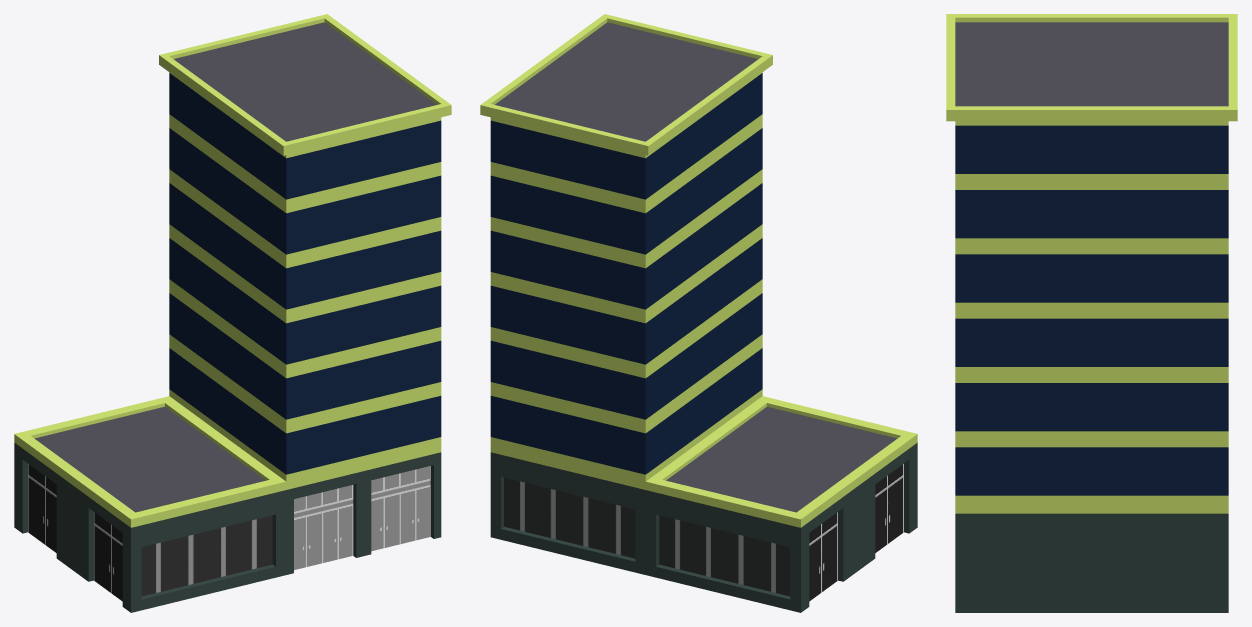
File: building23c.FBX
3 views of the same model, side by side, from view 1: azimuth 30°, elevation 25°; view 2: azimuth 150°, elevation 25°; view 3: azimuth 270°, elevation 25° (orthographic). The views are drawn at different scales.
Parts seen in each view (by area): view 1: building23c; view 2: building23c; view 3: building23c.
Boxes of the visible parts, <box> form: building23c: <box>14,14,451,612</box>; building23c: <box>480,14,917,612</box>; building23c: <box>946,14,1237,612</box>.
Size of the model in its own units: 30.45 by 39.78 by 20.71.
